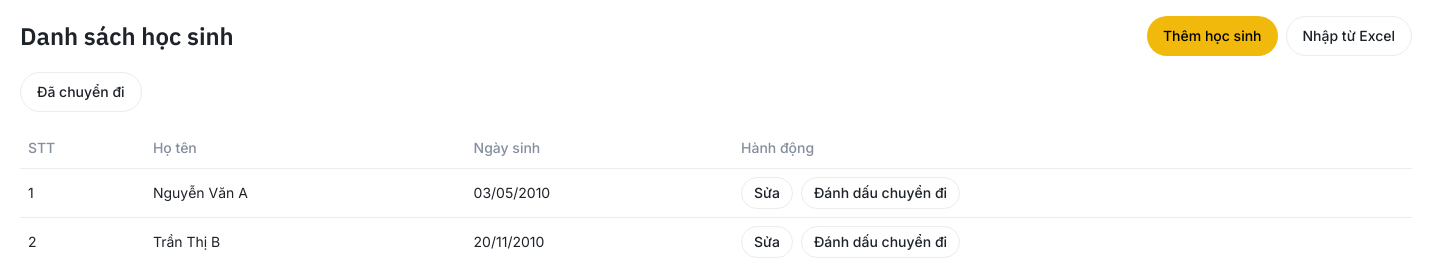
Test: toggle "Đã chuyển đi" gọi lại useGetStudentsQuery với status=ALL rồi lọc client-side chỉ còn học sinh TRANSFERRED
Expected: the text "Nguyễn Văn A" is shown, [145,168,466,217]
Expected: the text "Lê Văn C" is not shown
Click the button "Đã chuyển đi": (81, 92) [20,72,142,112]
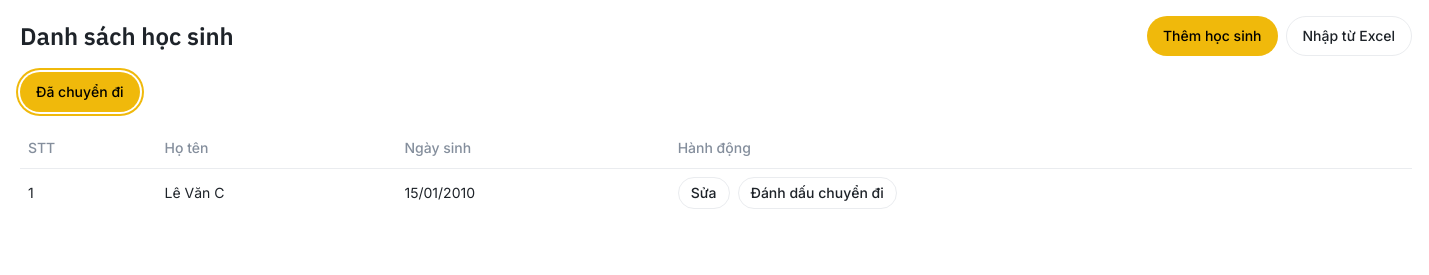
Expected: the text "Lê Văn C" is shown, [157,168,396,216]
Expected: the text "Nguyễn Văn A" is gone
Expected: the text "Trần Thị B" is gone
